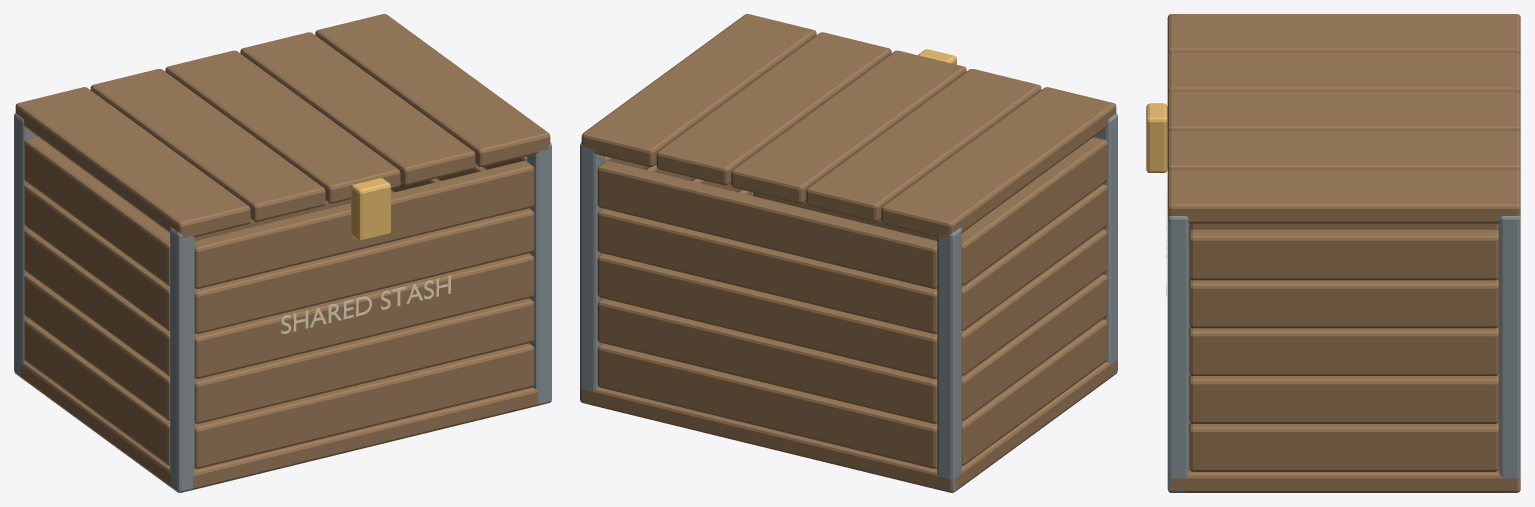
File: AH03_Stash.fbx
The picture shows the model from 3 angles, left to right: view 1: azimuth 30°, elevation 25°; view 2: azimuth 150°, elevation 25°; view 3: azimuth 270°, elevation 25°; orthographic projection. The views are drawn at different scales.
Visible parts, largest first — view 1: AH03_Stash_AH03_Wood, AH03_StashLid_AH03_Wood, AH03_Stash_AH03_Metal, AH03_Stash_AH03_Gold, AH03_Stash_AH03_Cream; view 2: AH03_Stash_AH03_Wood, AH03_StashLid_AH03_Wood, AH03_Stash_AH03_Metal; view 3: AH03_Stash_AH03_Wood, AH03_StashLid_AH03_Wood, AH03_Stash_AH03_Metal, AH03_Stash_AH03_Gold.
Boxes of the visible parts, x1,y1,x2,y2 form: AH03_Stash_AH03_Wood: (14,137,538,489); AH03_StashLid_AH03_Wood: (15,14,550,238); AH03_Stash_AH03_Metal: (14,113,551,492); AH03_Stash_AH03_Gold: (351,178,390,241); AH03_Stash_AH03_Cream: (281,275,450,333); AH03_Stash_AH03_Wood: (580,137,1117,491); AH03_StashLid_AH03_Wood: (581,14,1116,237); AH03_Stash_AH03_Metal: (580,113,1117,492); AH03_Stash_AH03_Wood: (1171,223,1520,492); AH03_StashLid_AH03_Wood: (1167,14,1520,223); AH03_Stash_AH03_Metal: (1167,216,1520,492); AH03_Stash_AH03_Gold: (1146,103,1167,172).
Size of the model in its own units: 150 by 104 by 122.
